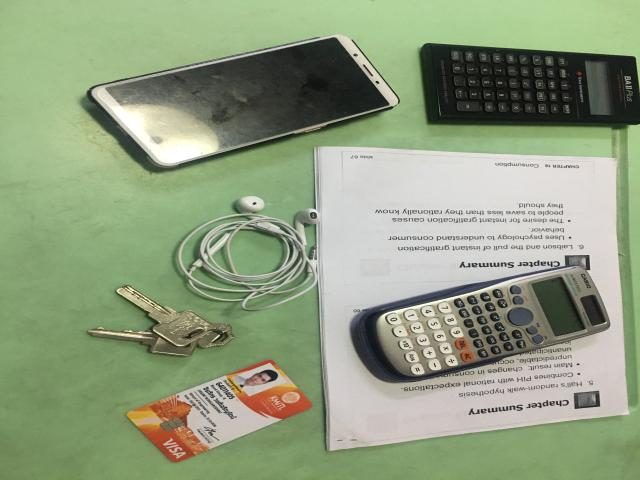Keys: (88, 286, 233, 356)
Mobile phone: (88, 35, 398, 167)
paper: (315, 146, 628, 450)
wire: (177, 196, 320, 311)
